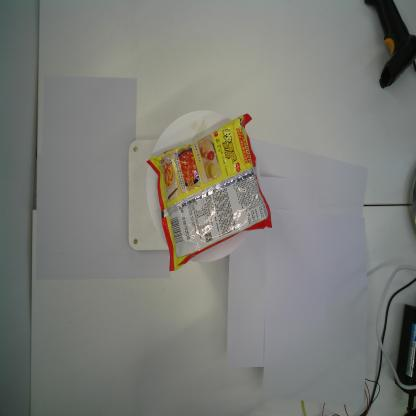Instant Noodles: (146, 112, 272, 270)
